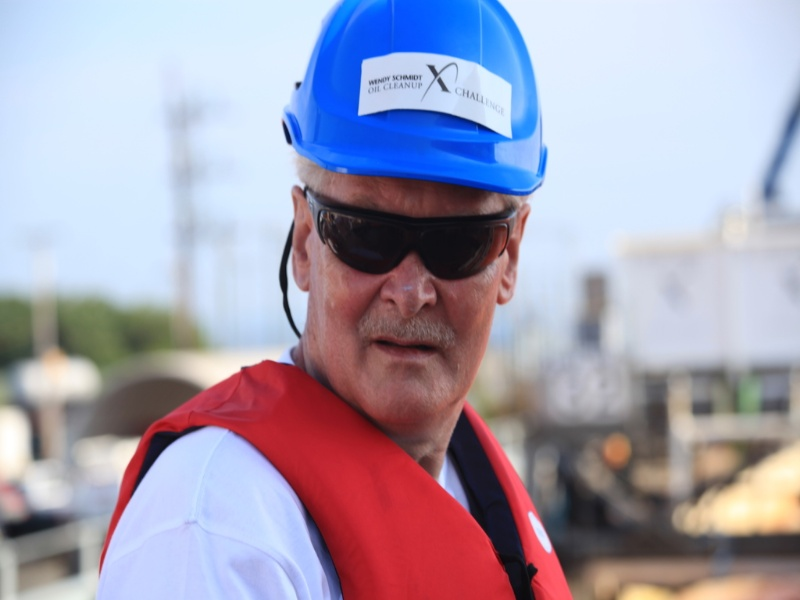helmet: (285, 3, 555, 199)
jacket: (123, 356, 573, 600)
